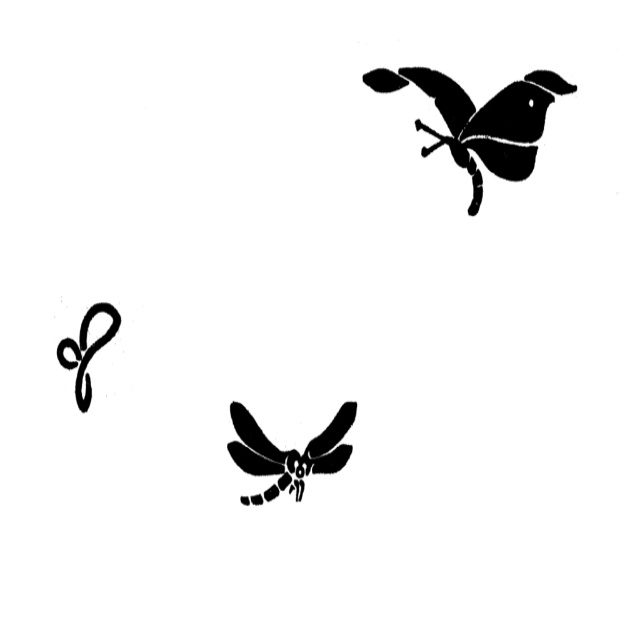Butterfly: (365, 61, 581, 220), (221, 388, 367, 515)
